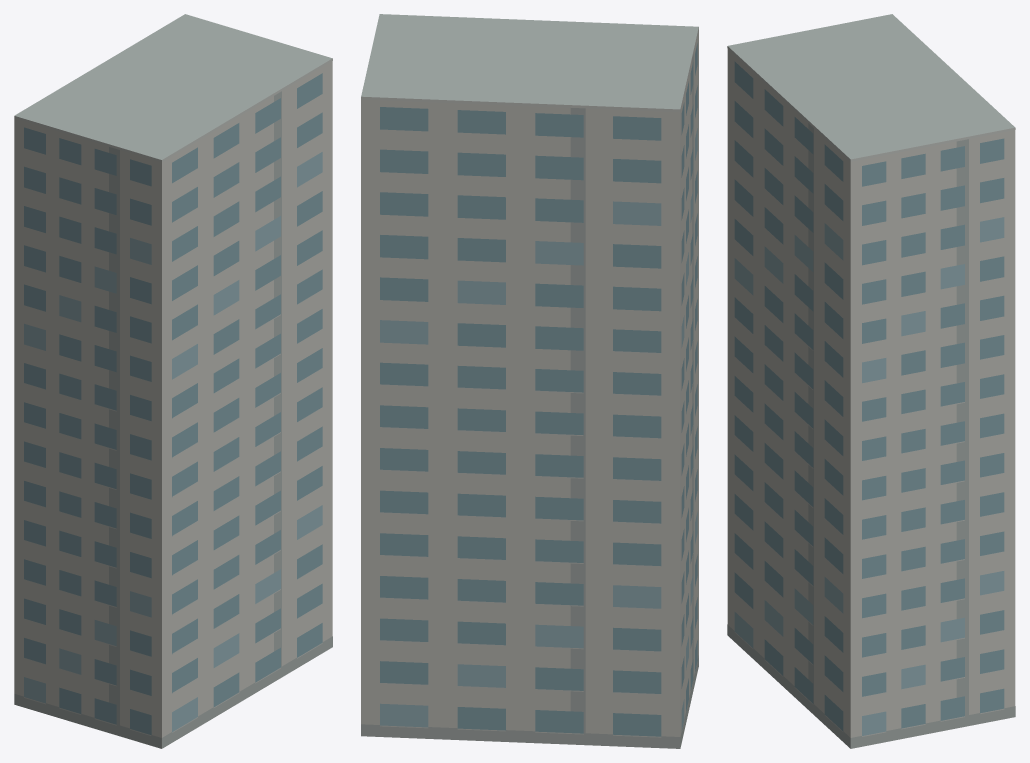
File: residential-c02f10a6-a982-4cf7-8b04-70cbf8821a2a.glb
The picture shows the model from 3 angles, left to right: view 1: azimuth 30°, elevation 25°; view 2: azimuth 150°, elevation 25°; view 3: azimuth 270°, elevation 25°; orthographic projection. The views are drawn at different scales.
Visible parts, largest first — view 1: residential-c02f10a6-a982-4cf7-8b04-70cbf8821a2a.tmp; view 2: residential-c02f10a6-a982-4cf7-8b04-70cbf8821a2a.tmp; view 3: residential-c02f10a6-a982-4cf7-8b04-70cbf8821a2a.tmp.
Boxes of the visible parts, bbox=[...] form: residential-c02f10a6-a982-4cf7-8b04-70cbf8821a2a.tmp: bbox=[14, 14, 332, 748]; residential-c02f10a6-a982-4cf7-8b04-70cbf8821a2a.tmp: bbox=[361, 14, 698, 748]; residential-c02f10a6-a982-4cf7-8b04-70cbf8821a2a.tmp: bbox=[727, 14, 1015, 748].
Size of the model in its own units: 30.17 by 57 by 25.25.
